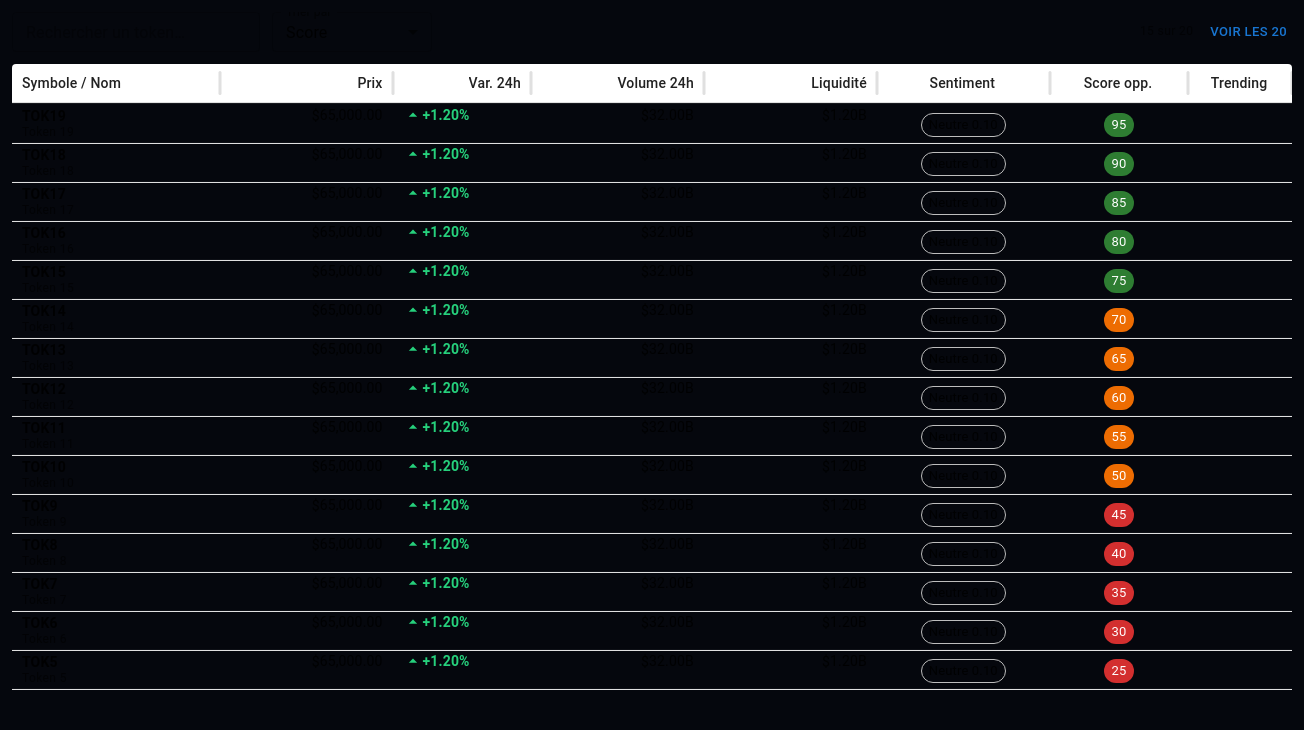
it: TokensTable › bounds the visible rows to 15 when more tokens exist, and "Voir les N" reveals the rest
Expected: the text "TOK4" is not shown
Click the button "Voir les 20".
click(1249, 32)  # box [1205,17,1292,47]
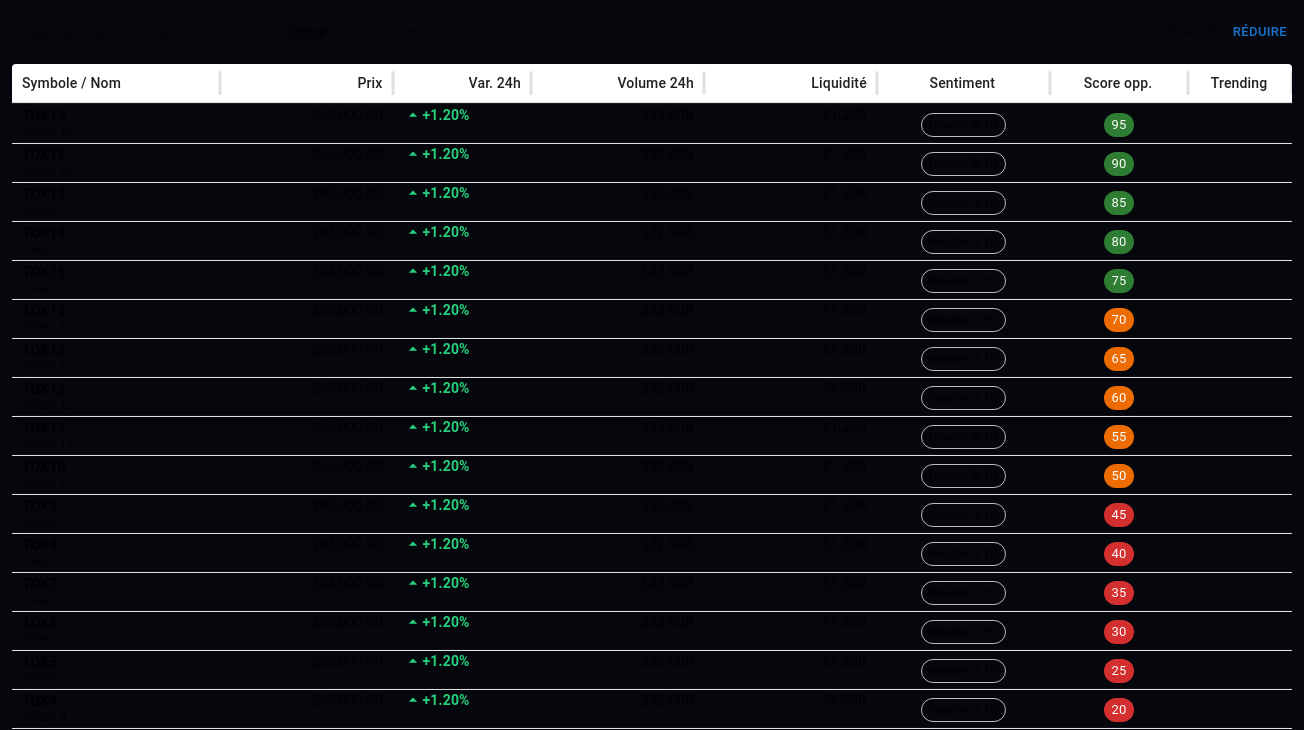
Expected: the button "Réduire" is shown, [1228,17,1292,47]
